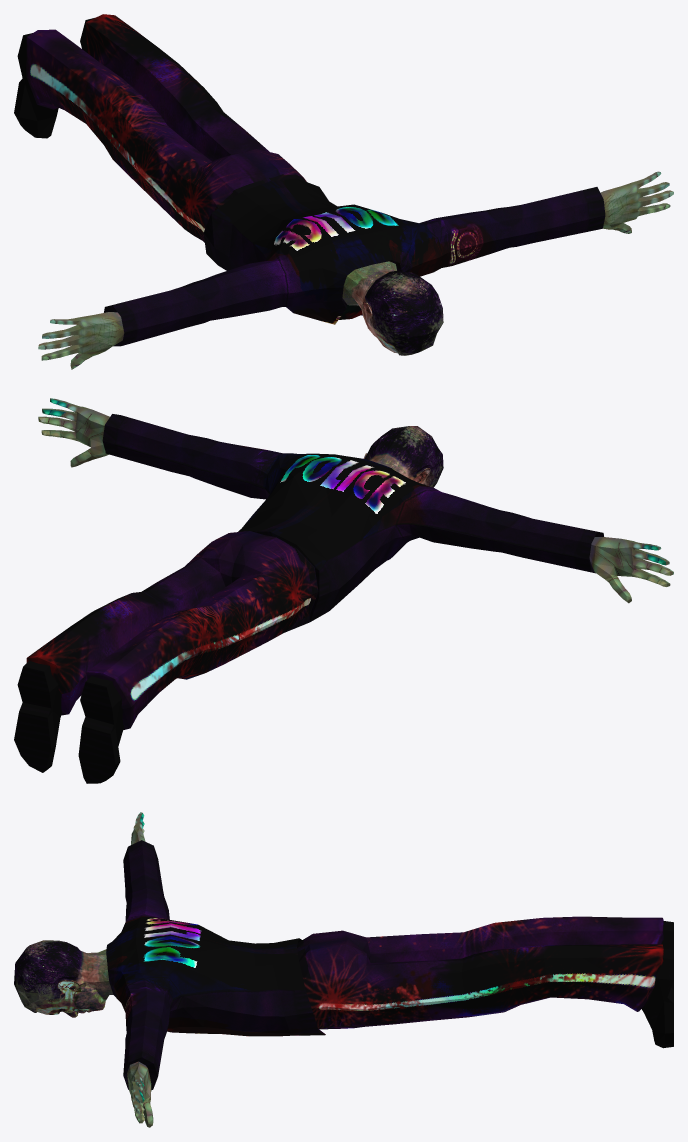
File: tomdrinman5_zombiepolice_wtf.obj
The picture shows the model from 3 angles, top to bottom: view 1: azimuth 30°, elevation 25°; view 2: azimuth 150°, elevation 25°; view 3: azimuth 270°, elevation 25°; orthographic projection. The views are drawn at different scales.
Parts seen in each view (by area): view 1: group1; view 2: group1; view 3: group1.
Part boxes in pixels (<box>): group1: <box>14,14,673,369</box>; group1: <box>14,398,673,783</box>; group1: <box>14,812,673,1127</box>.
Bounding box in the file's own units: 660 × 113 × 647.
